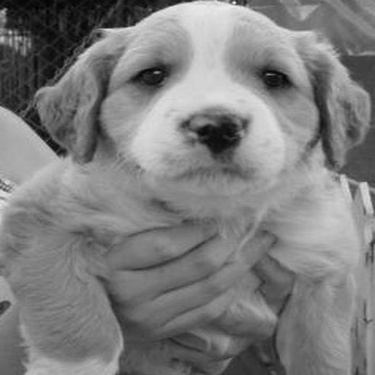dog: (3, 2, 373, 372)
